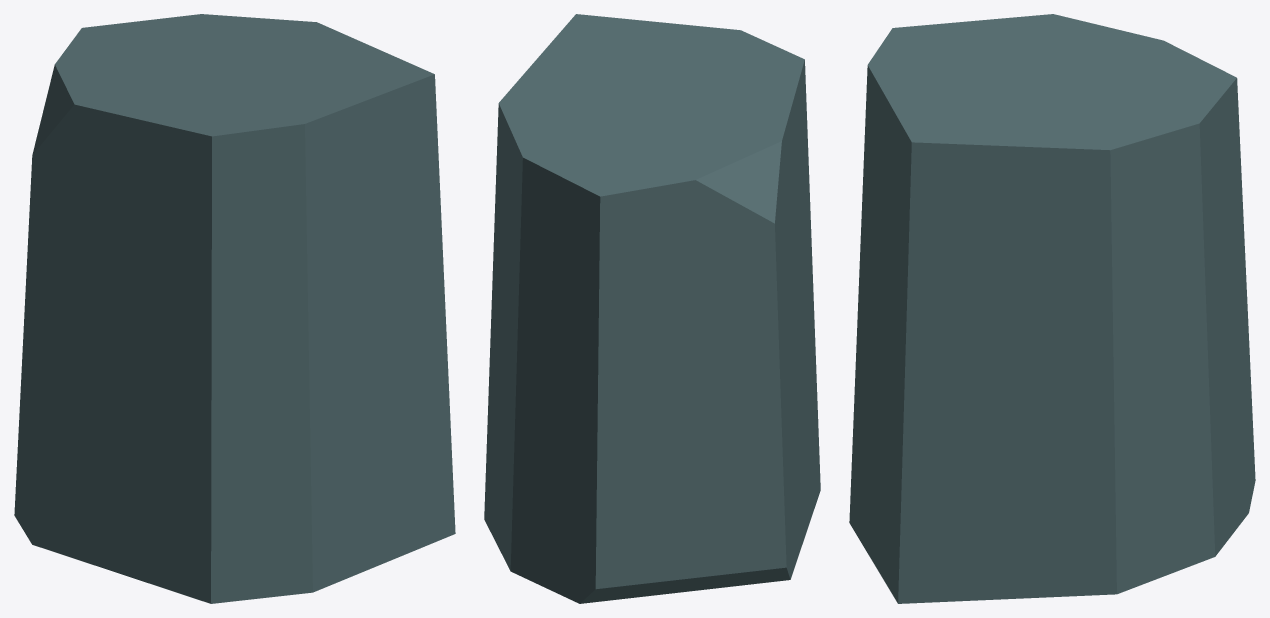
The model's file is brigesCube_013.fbx.
The picture shows the model from 3 angles, left to right: view 1: azimuth 30°, elevation 25°; view 2: azimuth 150°, elevation 25°; view 3: azimuth 270°, elevation 25°; orthographic projection. The views are drawn at different scales.
Visible parts, largest first — view 1: Cube.013; view 2: Cube.013; view 3: Cube.013.
Boxes of the visible parts, x1=… form: Cube.013: x1=14, y1=14, x2=455, y2=603; Cube.013: x1=484, y1=14, x2=820, y2=603; Cube.013: x1=849, y1=14, x2=1255, y2=603.
Size of the model in its own units: 49.3 by 64.84 by 52.04.
